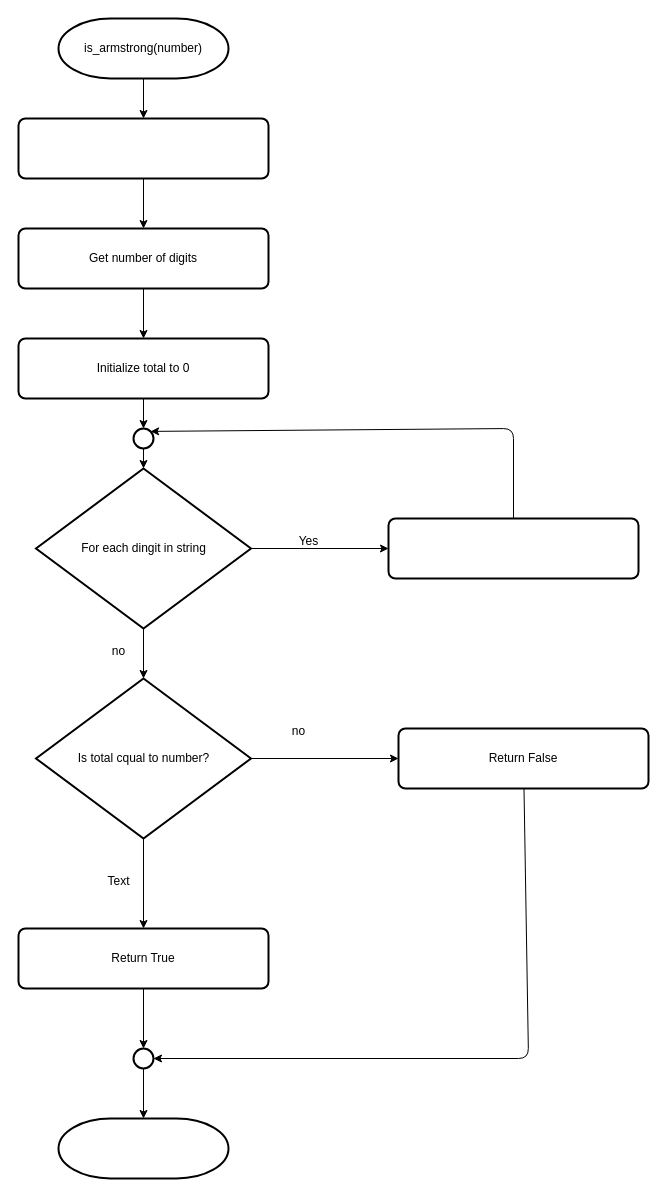
This 666x1196 diagram has some shape labels left out. The shapes that lost their labels are listed below. From the top down, each one's centre as x and y in pixels, then its label:
point (143, 148): Convert number to string
point (513, 548): Add digit num_digits to toal
point (143, 1148): stop
